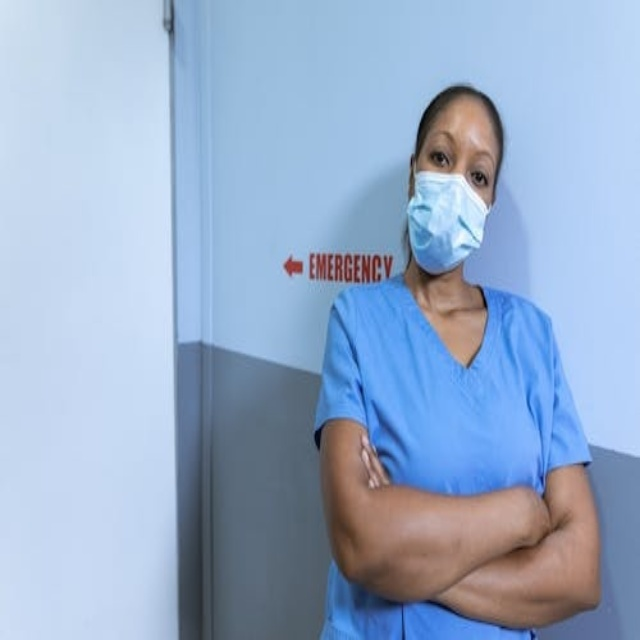Mascara: (407, 169, 490, 273)
Sin_gafas: (430, 150, 452, 169), (470, 169, 488, 187)
Sin_guantes: (484, 475, 562, 555), (347, 419, 397, 502)
